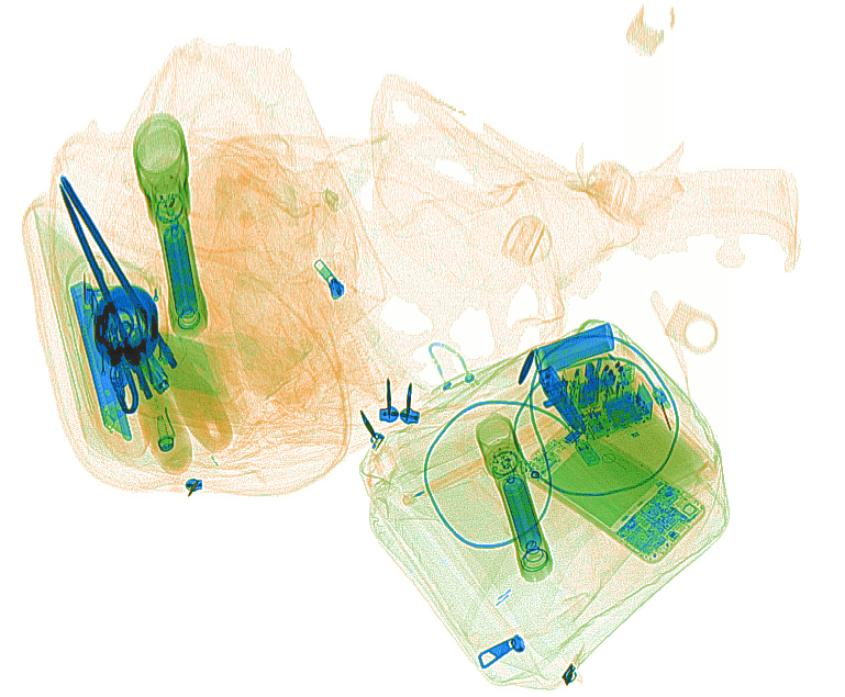battery: (533, 322, 616, 379), (162, 222, 199, 320), (502, 474, 543, 555)
knife: (70, 281, 153, 459)
